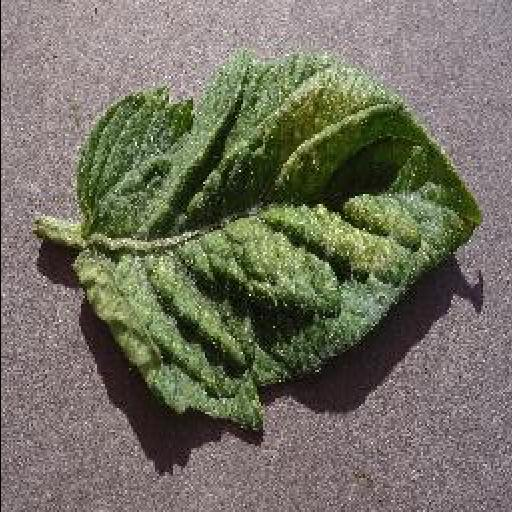disease_tomato: (66, 55, 482, 437)
